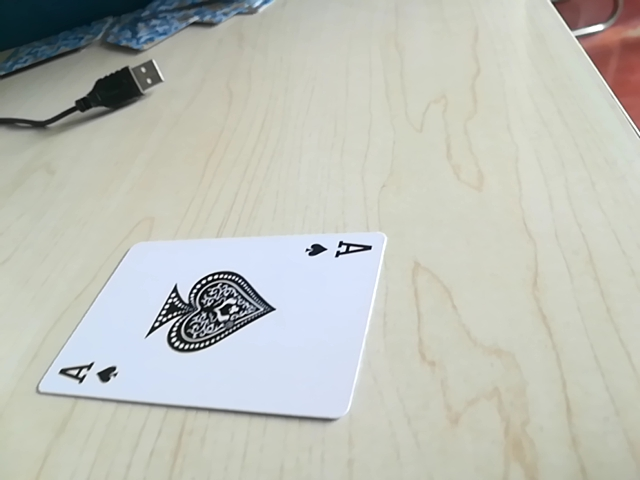ht a: (44, 356, 124, 393), (300, 234, 377, 266)
